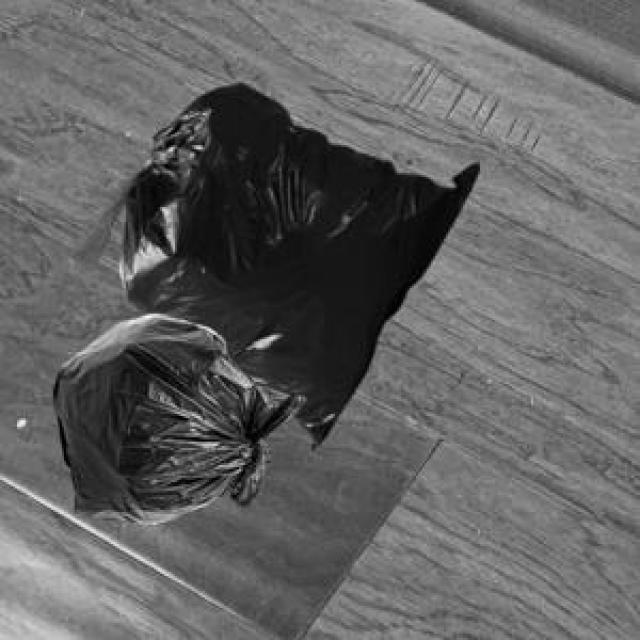miscellaneous trash: (64, 79, 476, 446), (49, 309, 301, 521)
